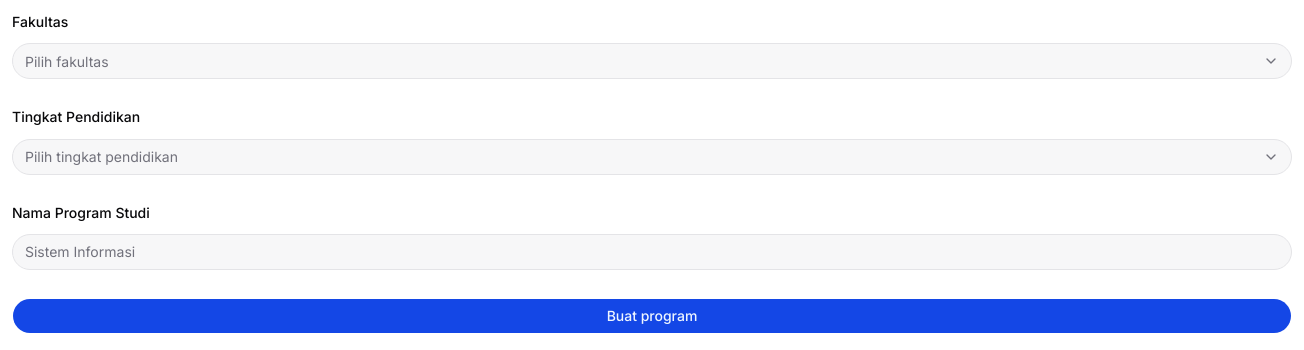
it: ProgramForm › Interactions › allows selecting faculty
Click the dropdown named "Pilih fakultas" at (636, 61), box [13, 43, 1259, 79]
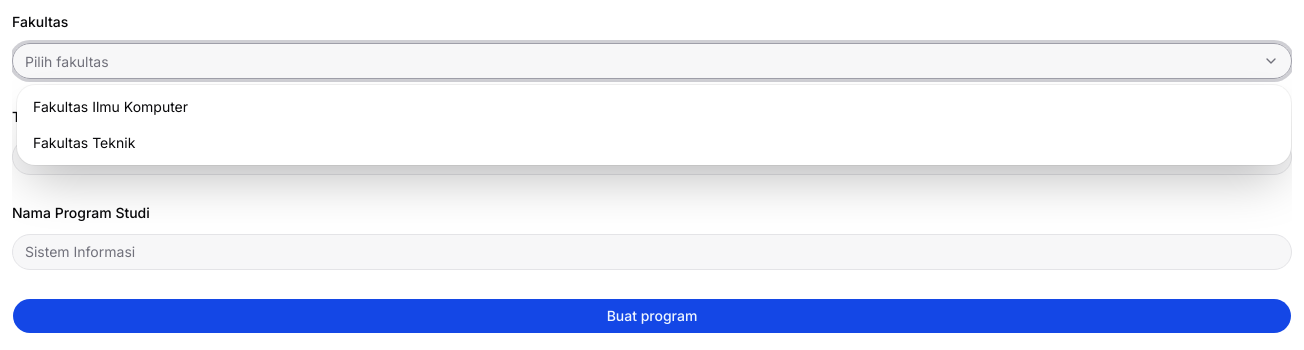
Click the option "Fakultas Ilmu Komputer" at (110, 106), box [33, 98, 188, 115]
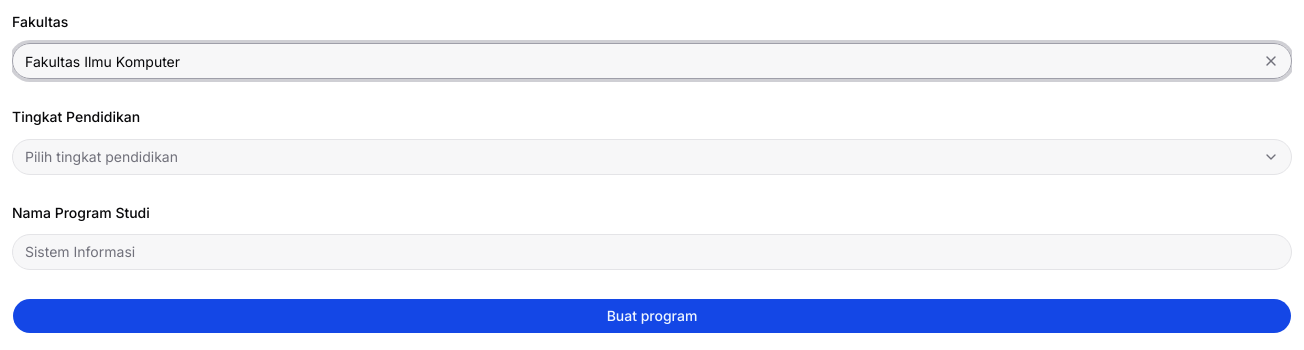
Now the dropdown named "Pilih fakultas" holds "Fakultas Ilmu Komputer", box [13, 43, 1259, 79]
